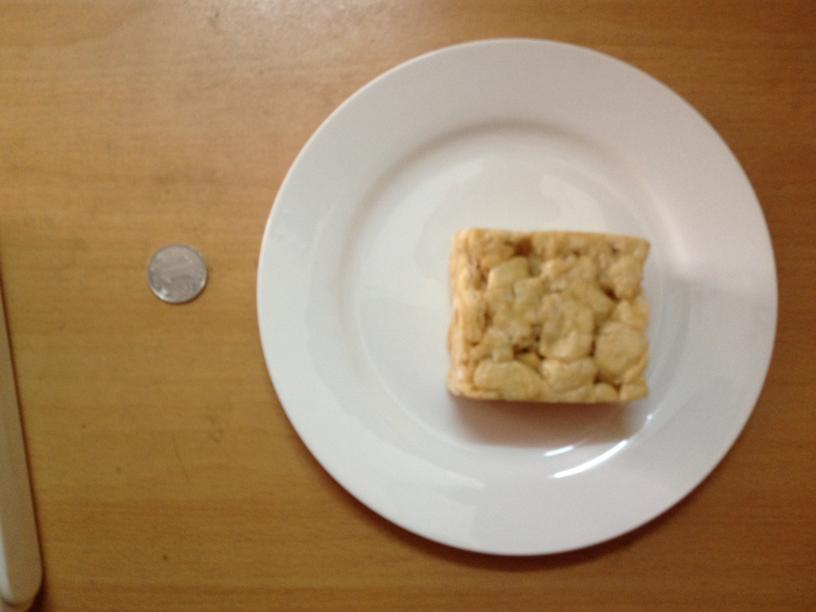coin: (144, 245, 210, 304)
sachima: (436, 220, 653, 402)
